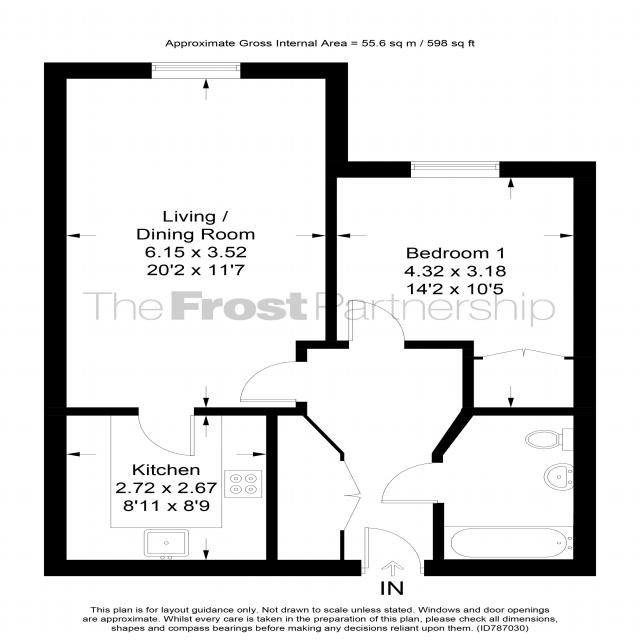DOOR: (346, 298, 412, 350), (360, 524, 425, 576), (374, 460, 445, 507), (134, 407, 198, 459), (236, 357, 308, 403)
ROOM: (43, 62, 349, 467), (325, 161, 598, 417), (43, 407, 279, 576)
WINDOW: (406, 158, 507, 179), (148, 60, 243, 80)
